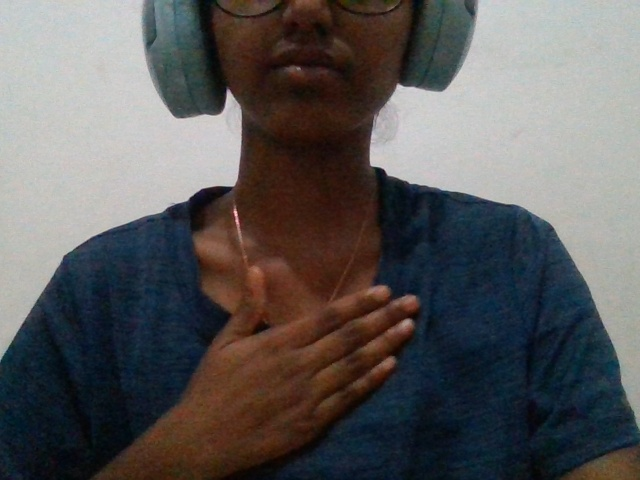Please: (155, 261, 461, 478)
